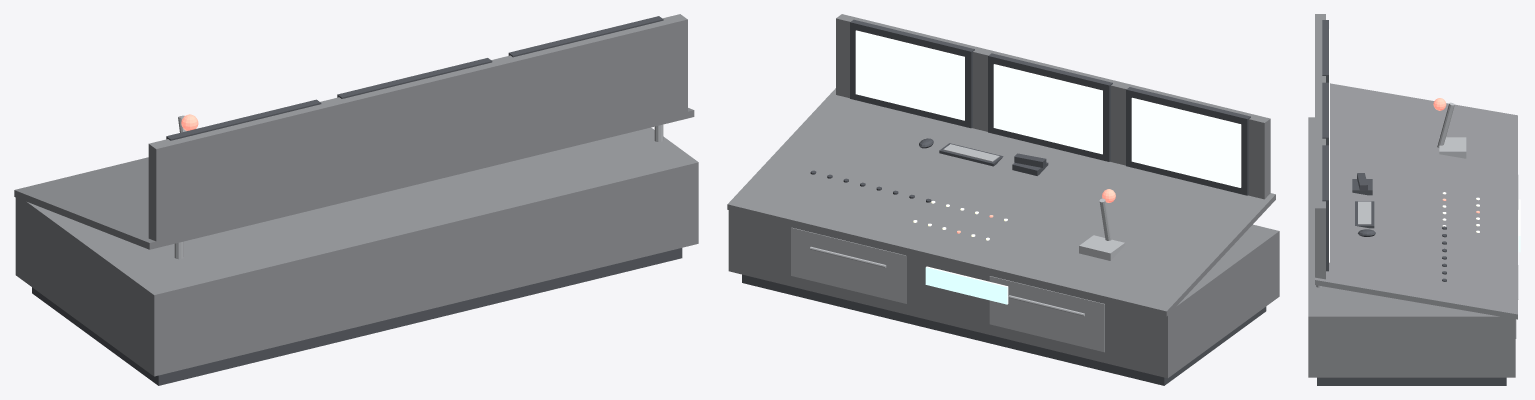
Rendered from console.glb.
3 renders of one model, left to right at view 1: azimuth 30°, elevation 25°; view 2: azimuth 150°, elevation 25°; view 3: azimuth 270°, elevation 25°, orthographic. The views are drawn at different scales.
Parts seen in each view (by area): view 1: dispatch_console; view 2: dispatch_console; view 3: dispatch_console.
Boxes of the visible parts, x1,y1,x2,y2 form: dispatch_console: [14, 14, 698, 385]; dispatch_console: [727, 14, 1279, 385]; dispatch_console: [1308, 14, 1520, 385].
Size of the model in its own units: 4.2 by 1.77 by 1.89.
